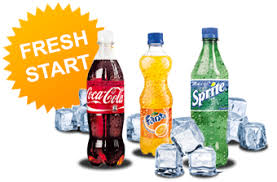fanta: (142, 37, 170, 147)
